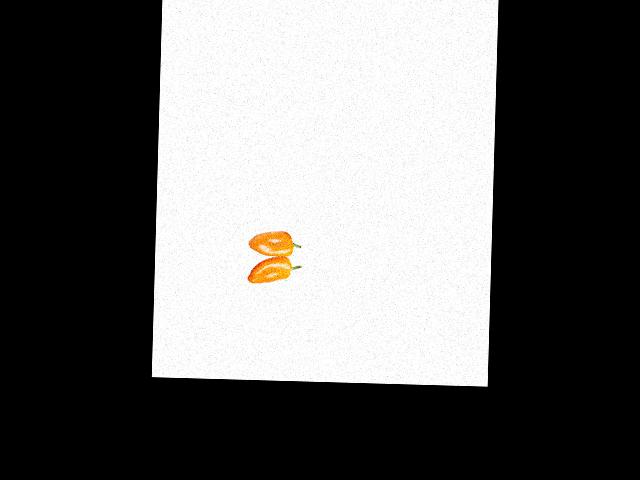bell_pepper: (237, 224, 302, 258)
